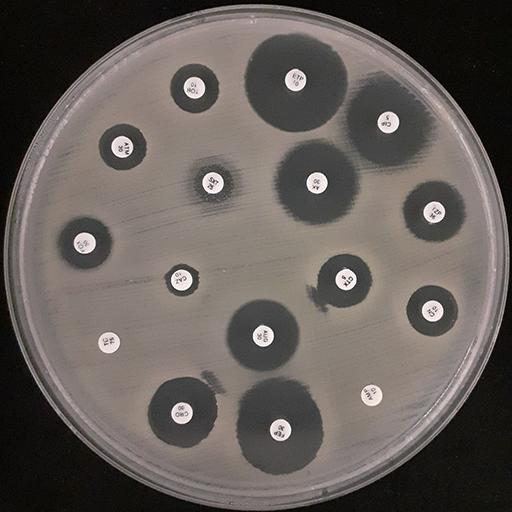disc: (285, 68, 306, 91), (307, 172, 328, 194), (424, 201, 445, 223), (74, 232, 96, 253), (203, 172, 224, 194), (378, 112, 399, 133), (361, 385, 382, 406), (270, 420, 291, 441), (172, 403, 193, 424), (99, 332, 120, 353), (171, 270, 192, 291), (112, 136, 133, 157), (184, 77, 205, 98), (423, 301, 443, 322), (253, 326, 273, 347), (336, 269, 356, 290)
